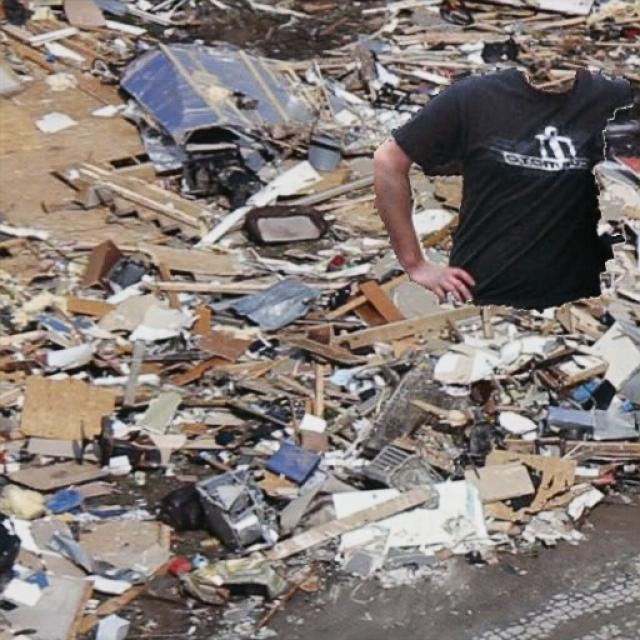Person in Rubble: (374, 68, 634, 312)
